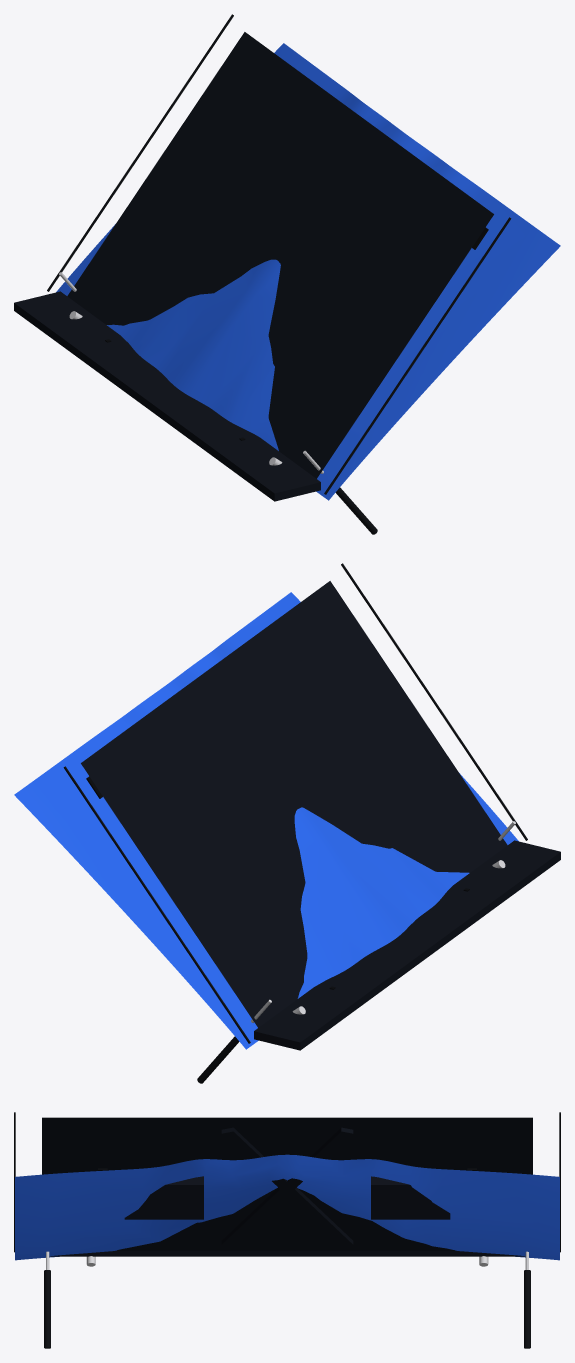
Rendered from bmw_i8_supercar_hood_open.glb.
The picture shows the model from 3 angles, top to bottom: view 1: azimuth 30°, elevation 25°; view 2: azimuth 150°, elevation 25°; view 3: azimuth 270°, elevation 25°; orthographic projection.
Parts seen in each view (by area): view 1: Block04_ProductionSculptedHood; view 2: Block04_ProductionSculptedHood; view 3: Block04_ProductionSculptedHood.
Boxes of the visible parts, x1,y1,x2,y2 form: Block04_ProductionSculptedHood: (14,14,560,534); Block04_ProductionSculptedHood: (14,563,560,1083); Block04_ProductionSculptedHood: (14,1112,560,1348).
Bounding box in the file's own units: 0.7179 × 0.7393 × 1.24.
